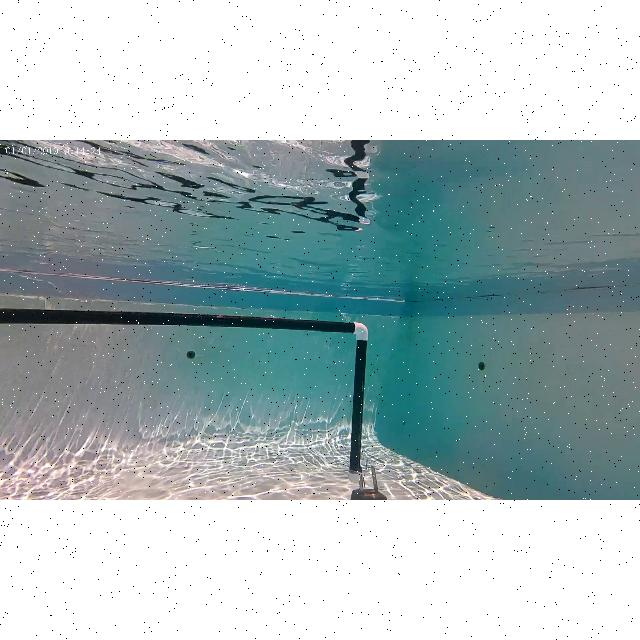prequal gate: (0, 308, 368, 480)
prequal gate leg r: (348, 316, 368, 476)
